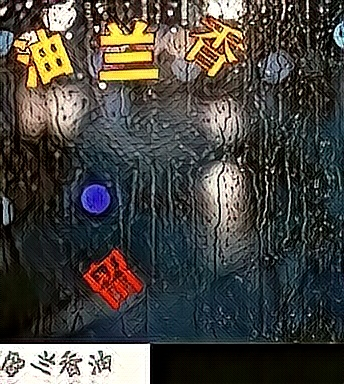C0BC: (97, 20, 159, 84)
C1F4: (80, 248, 142, 312)
CFE3: (185, 15, 247, 79)
D3CD: (13, 26, 75, 90)
